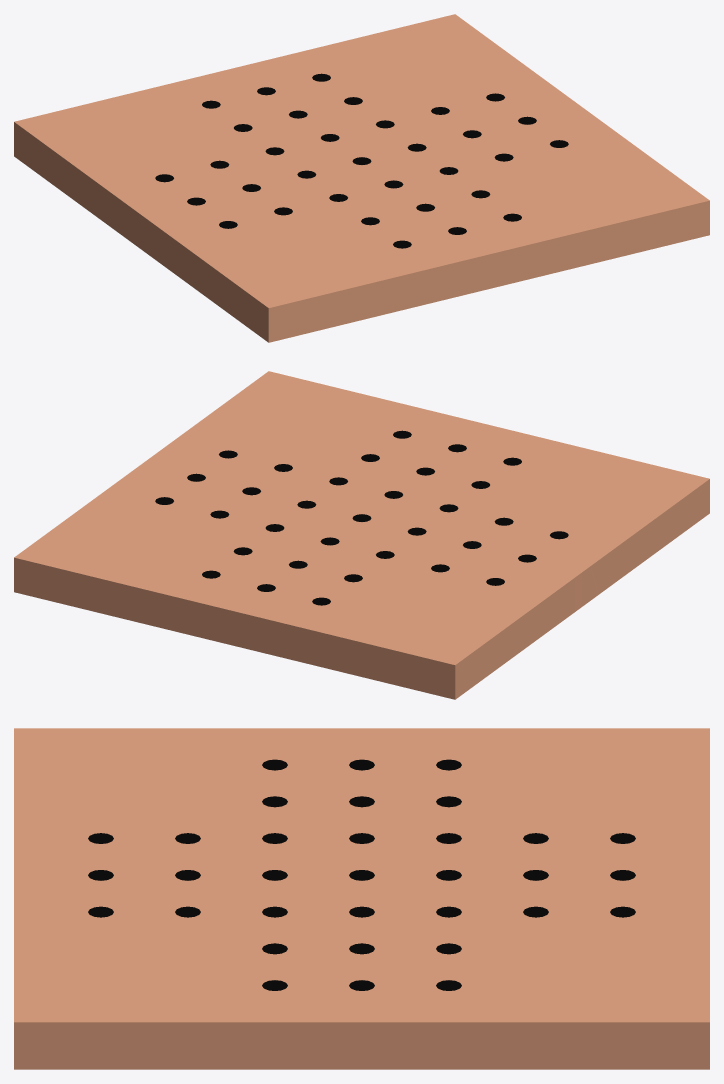
File: board.glb
3 views of the same model, one above another, from view 1: azimuth 30°, elevation 25°; view 2: azimuth 150°, elevation 25°; view 3: azimuth 270°, elevation 25° (orthographic). The views are drawn at different scales.
Visible parts, largest first — view 1: Board.001; view 2: Board.001; view 3: Board.001.
Part boxes in pixels (bbox=[...]): Board.001: bbox=[14, 14, 709, 342]; Board.001: bbox=[14, 371, 709, 699]; Board.001: bbox=[14, 728, 709, 1069].
Size of the model in its own units: 8 by 0.6 by 8.
